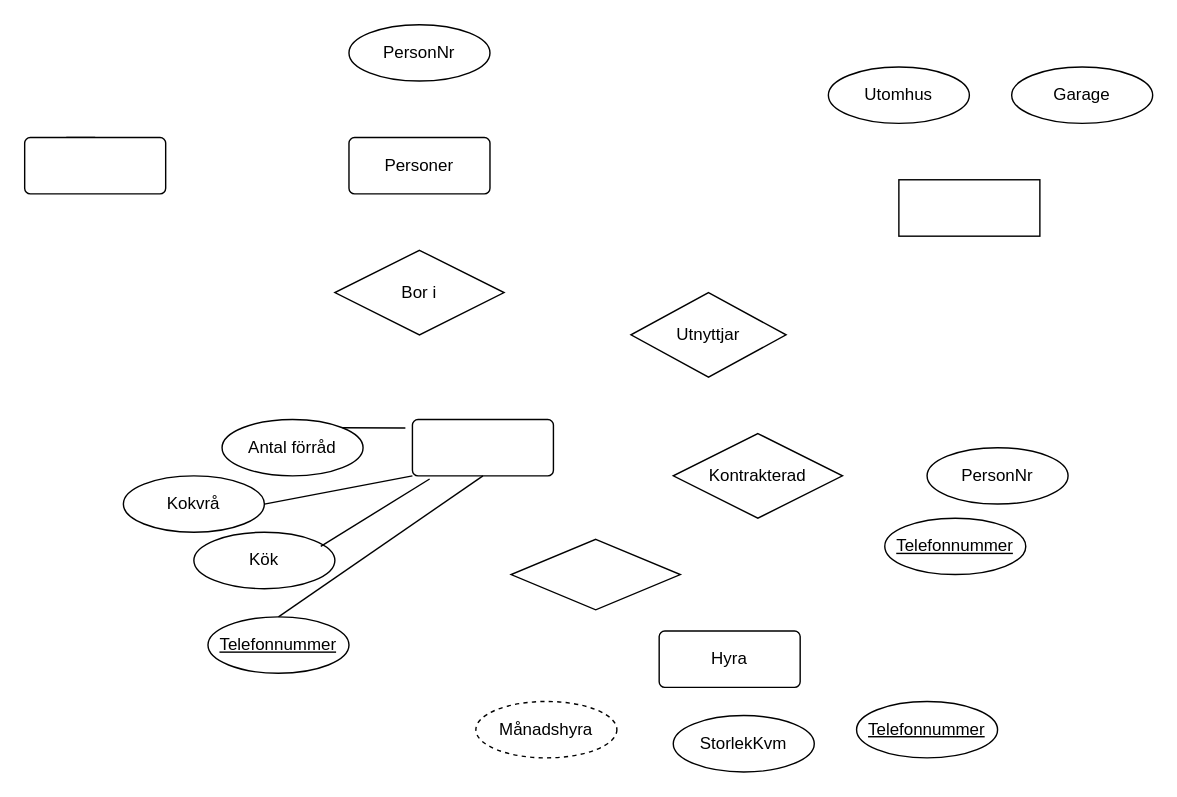
This 1177x797 diagram has some shape labels left out. Here are the shapes that lost their labels. From the top down, the box of each, then its label:
(23, 136, 166, 194): Rum
(897, 178, 1040, 236): Parkeringsplats
(411, 418, 553, 476): Lägenhet
(510, 538, 680, 610): Kostar
